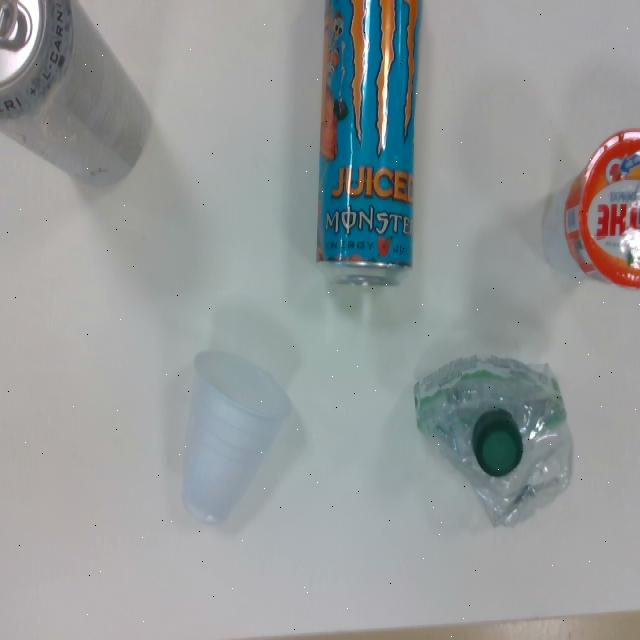aluminum: (0, 0, 162, 201), (312, 0, 419, 298)
plastic: (413, 351, 578, 535), (181, 343, 291, 527), (565, 124, 640, 292)
